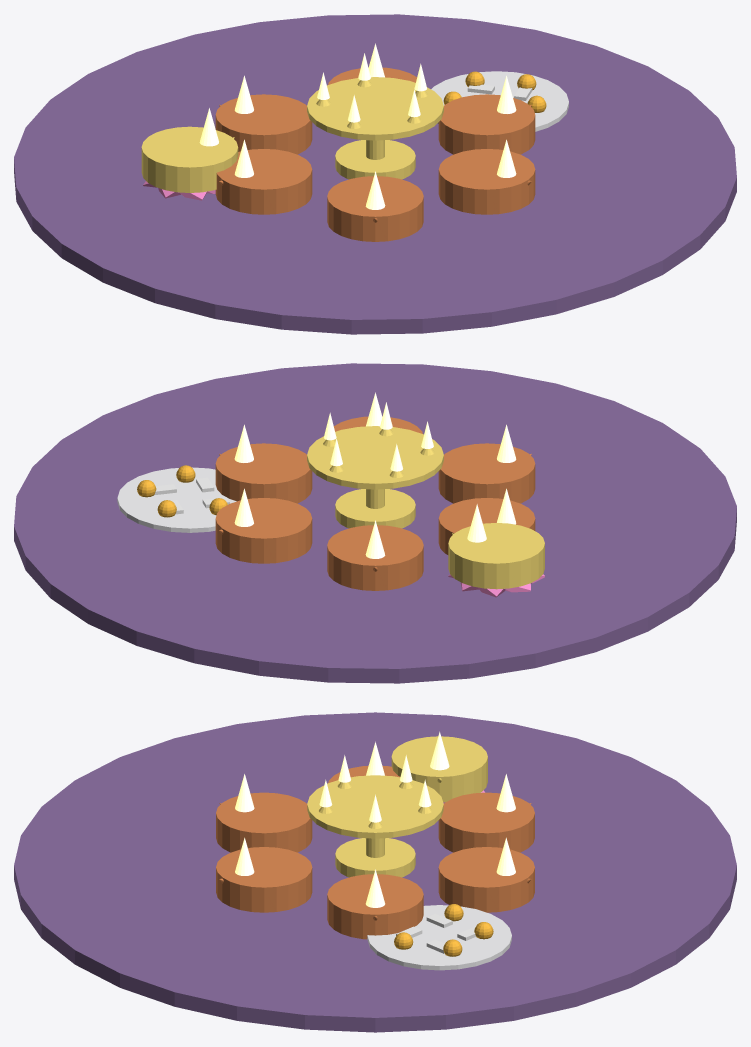
The model's file is diwali_scene.glb.
3 views of the same model, one above another, from view 1: azimuth 30°, elevation 25°; view 2: azimuth 150°, elevation 25°; view 3: azimuth 270°, elevation 25° (orthographic).
Visible parts, largest first — view 1: Courtyard_Stone, Aarti_Platter, ClayDiya_6_Bowl, ClayDiya_5_Bowl, Lotus_Center_Bowl, ClayDiya_4_Bowl, ClayDiya_1_Bowl, ClayDiya_3_Bowl, Mithai_Silver_Platter, Aarti_Base, ClayDiya_2_Bowl; view 2: Courtyard_Stone, Aarti_Platter, Lotus_Center_Bowl, ClayDiya_2_Bowl, ClayDiya_3_Bowl, ClayDiya_5_Bowl, ClayDiya_1_Bowl, Mithai_Silver_Platter, Aarti_Base, ClayDiya_4_Bowl, ClayDiya_6_Bowl; view 3: Courtyard_Stone, Aarti_Platter, ClayDiya_6_Bowl, ClayDiya_2_Bowl, Mithai_Silver_Platter, ClayDiya_1_Bowl, ClayDiya_3_Bowl, ClayDiya_5_Bowl, Lotus_Center_Bowl, Aarti_Base.
Part boxes in pixels (x1,y1,x2,y2): Courtyard_Stone: (14, 14, 736, 334); Aarti_Platter: (307, 77, 443, 140); ClayDiya_6_Bowl: (438, 149, 535, 214); ClayDiya_5_Bowl: (327, 176, 423, 241); Lotus_Center_Bowl: (141, 126, 238, 192); ClayDiya_4_Bowl: (215, 149, 312, 214); ClayDiya_1_Bowl: (438, 94, 535, 154); ClayDiya_3_Bowl: (215, 94, 312, 154); Mithai_Silver_Platter: (431, 71, 568, 131); Aarti_Base: (335, 140, 415, 179); ClayDiya_2_Bowl: (328, 67, 416, 84); Courtyard_Stone: (14, 363, 736, 683); Aarti_Platter: (307, 426, 443, 489); Lotus_Center_Bowl: (448, 523, 544, 589); ClayDiya_2_Bowl: (215, 498, 312, 563); ClayDiya_3_Bowl: (327, 525, 423, 590); ClayDiya_5_Bowl: (438, 443, 535, 503); ClayDiya_1_Bowl: (215, 443, 312, 503); Mithai_Silver_Platter: (117, 467, 236, 532); Aarti_Base: (335, 489, 415, 528); ClayDiya_4_Bowl: (438, 498, 535, 554); ClayDiya_6_Bowl: (334, 416, 422, 433); Courtyard_Stone: (14, 712, 736, 1032); Aarti_Platter: (307, 775, 443, 838); ClayDiya_6_Bowl: (216, 847, 312, 912); ClayDiya_2_Bowl: (438, 847, 534, 912); Mithai_Silver_Platter: (367, 905, 511, 970); ClayDiya_1_Bowl: (327, 874, 423, 939); ClayDiya_3_Bowl: (438, 792, 534, 852); ClayDiya_5_Bowl: (216, 792, 312, 852); Lotus_Center_Bowl: (391, 736, 487, 802); Aarti_Base: (335, 838, 415, 877).
Bounding box in the file's own units: 9 × 1.48 × 9.
